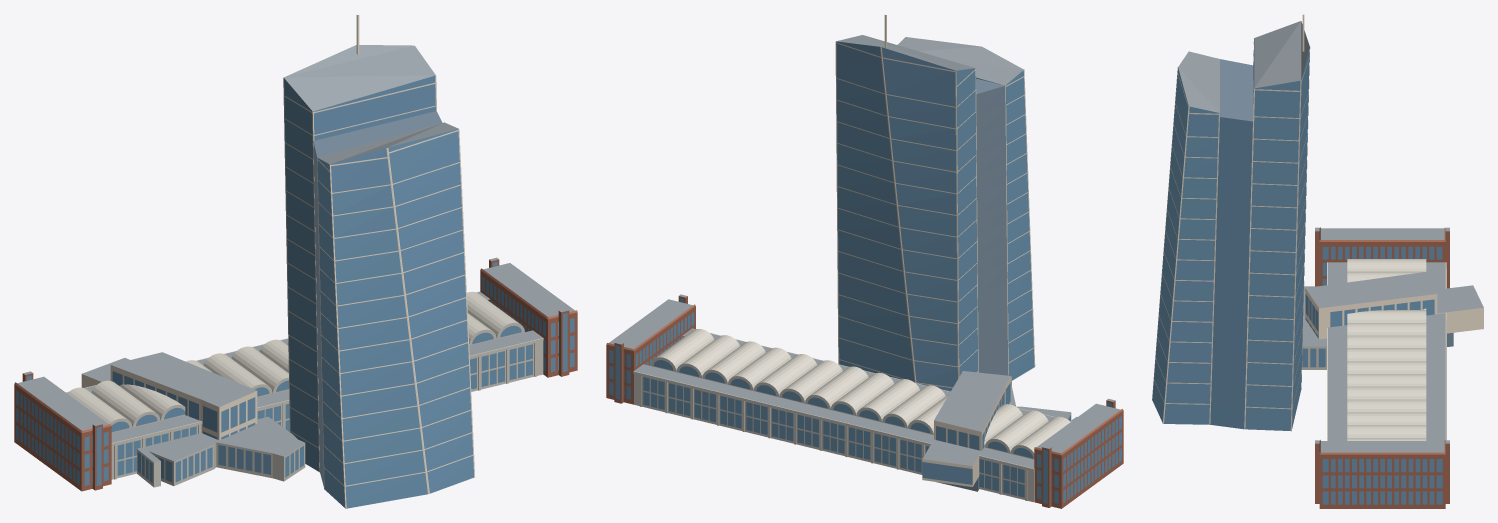
File: frankfurt-ecb.detail.glb
3 views of the same model, side by side, from view 1: azimuth 30°, elevation 25°; view 2: azimuth 150°, elevation 25°; view 3: azimuth 270°, elevation 25° (orthographic). The views are drawn at different scales.
Visible parts, largest first — view 1: European Central Bank; view 2: European Central Bank; view 3: European Central Bank.
Part boxes in pixels (box(x1,y1,x2,y2)): European Central Bank: box(14, 15, 577, 508); European Central Bank: box(606, 15, 1123, 508); European Central Bank: box(1152, 14, 1483, 508).
Size of the model in its own units: 250 by 201 by 155.
